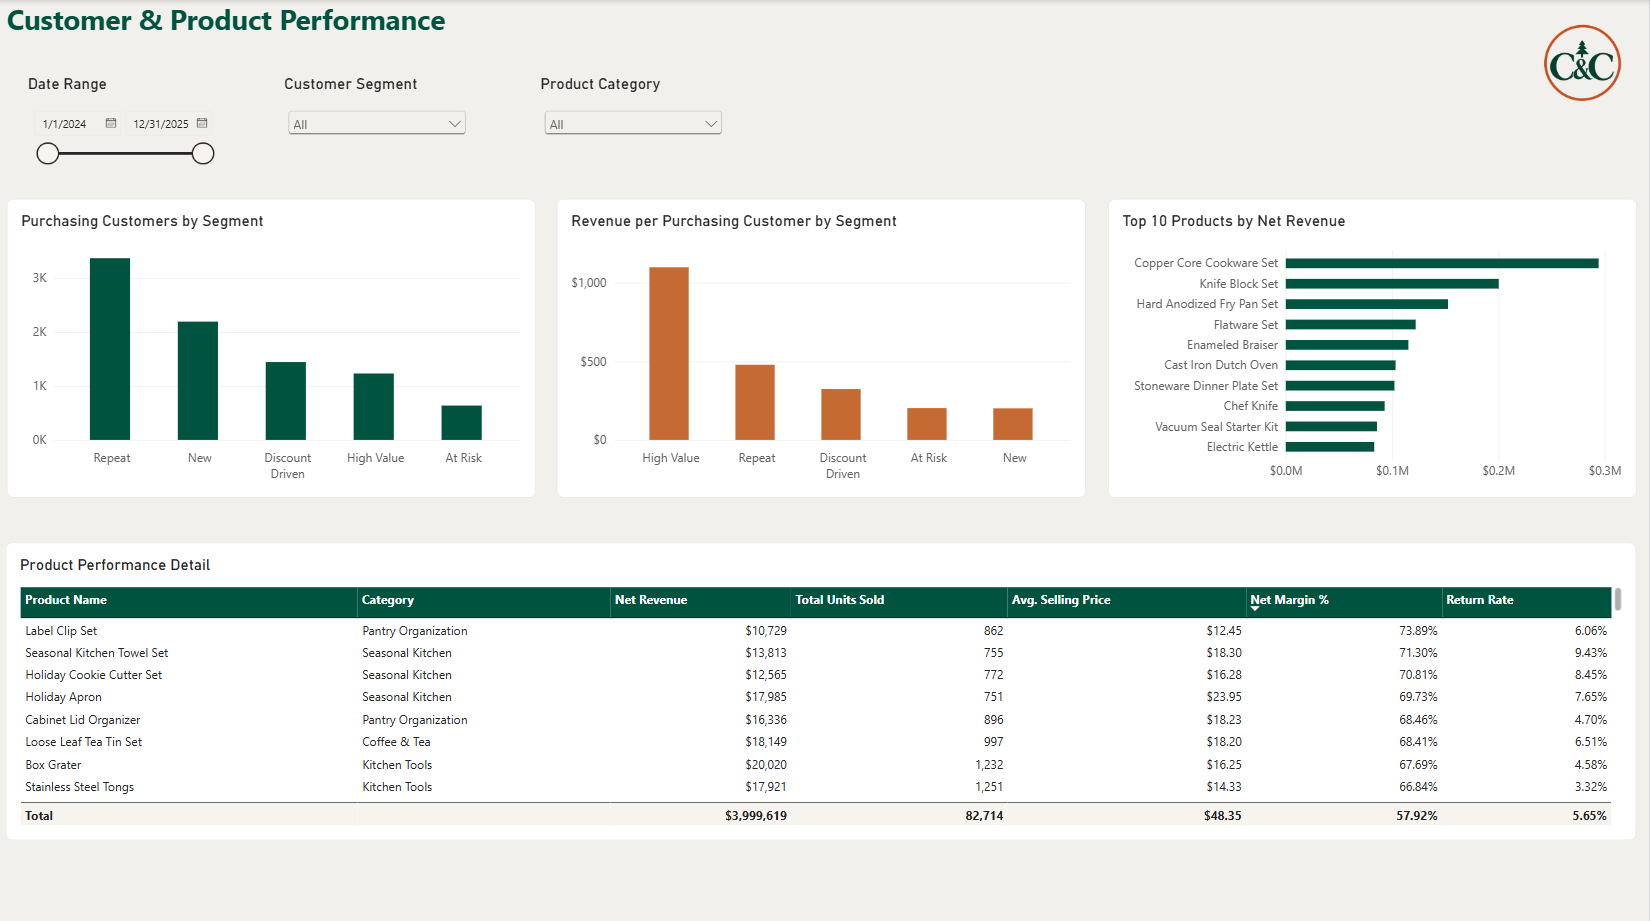

What the dashboard file says about the page in this screenshot:
{"tool":"powerbi","page":{"name":"Customer & Product Performance","canvas":[1920,1080],"ordinal":1},"visuals":[{"type":"textbox","box":[10,0,575,78.3],"z":0},{"type":"slicer","title":"Date Range","fields":{"Values":["orders.order_date"]},"box":[35,86.7,220,118.3],"z":1000},{"type":"slicer","title":"Customer Segment","fields":{"Values":["customers.customer_segment"]},"box":[333.3,86.7,216.4,95.7],"z":2000},{"type":"slicer","title":"Product Category","fields":{"Values":["products.category"]},"box":[631.7,86.7,216.4,95.7],"z":3000},{"type":"clusteredColumnChart","title":"Purchasing Customers by Segment","fields":{"Category":["customers.customer_segment"],"Y":["orders.Purchasing Customers"]},"box":[10,230.7,615,348.3],"z":4000},{"type":"clusteredColumnChart","title":"Revenue per Purchasing Customer by Segment","fields":{"Category":["customers.customer_segment"],"Y":["orders.Revenue per Purchasing Customer"]},"box":[650.4,230.7,615,348.3],"z":5000},{"type":"clusteredBarChart","title":"Top 10 Products by Net Revenue","fields":{"Category":["products.product_name"],"Y":["Sum(order_items.net_item_revenue)"]},"box":[1290.8,230.7,615,348],"z":6000},{"type":"tableEx","title":"Product Performance Detail","fields":{"Values":["products.product_name","products.category","Sum(order_items.net_item_revenue)","order_items.Total Units Sold","order_items.Average Selling Price per Unit","order_items.Net Item Margin Percentage","order_items.Returned Order-Item Rate"]},"box":[9.4,631.4,1897.2,346.1],"z":7000},{"type":"image","box":[1766.7,10,154,125],"z":8000}]}

Visuals, with their boxes in screenshot pixels (x1, y1, x2, y2), scaled from the page's 1920x1080 canvas onto the 1650x921 screenshot:
textbox: [x1=9, y1=0, x2=503, y2=67]
"Date Range" slicer: [x1=30, y1=74, x2=219, y2=175]
"Customer Segment" slicer: [x1=286, y1=74, x2=472, y2=156]
"Product Category" slicer: [x1=543, y1=74, x2=729, y2=156]
"Purchasing Customers by Segment" clusteredColumnChart: [x1=9, y1=197, x2=537, y2=494]
"Revenue per Purchasing Customer by Segment" clusteredColumnChart: [x1=559, y1=197, x2=1087, y2=494]
"Top 10 Products by Net Revenue" clusteredBarChart: [x1=1109, y1=197, x2=1638, y2=494]
"Product Performance Detail" tableEx: [x1=8, y1=538, x2=1638, y2=834]
image: [x1=1518, y1=9, x2=1649, y2=115]
